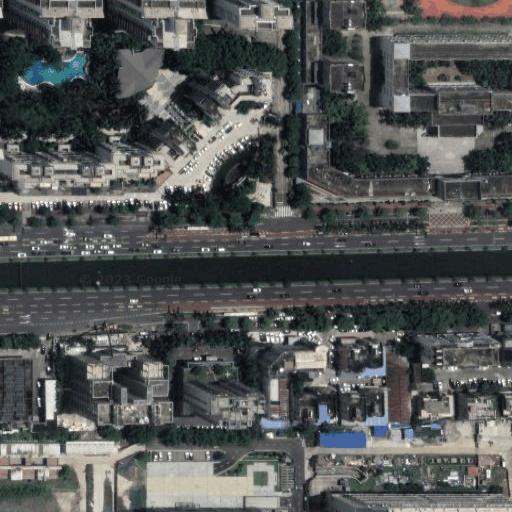building: (307, 114, 431, 198), (379, 40, 512, 110), (140, 458, 284, 510), (71, 355, 155, 415), (189, 59, 262, 112), (100, 40, 160, 98), (8, 149, 110, 178), (327, 496, 499, 512), (384, 344, 413, 429), (0, 358, 35, 422), (179, 380, 237, 414), (427, 342, 500, 367), (268, 350, 329, 378), (161, 341, 231, 363), (305, 2, 323, 85), (430, 109, 485, 136), (296, 390, 337, 426), (85, 462, 110, 512), (110, 140, 157, 165), (339, 343, 384, 369), (331, 1, 364, 29), (268, 377, 289, 420), (330, 65, 364, 91), (445, 179, 483, 201), (318, 432, 367, 449), (482, 174, 512, 200), (65, 441, 117, 456), (420, 396, 457, 417), (465, 395, 496, 420), (365, 389, 388, 418), (346, 393, 366, 423), (45, 379, 59, 421), (303, 87, 321, 114), (98, 352, 130, 365), (340, 368, 384, 377), (498, 393, 512, 415), (266, 419, 289, 430), (413, 362, 423, 382), (366, 417, 388, 426), (372, 426, 388, 438), (46, 454, 58, 466), (35, 470, 48, 481), (12, 469, 23, 481), (23, 469, 35, 480), (339, 338, 360, 344), (47, 470, 59, 480), (429, 423, 443, 431), (403, 428, 413, 439), (502, 324, 512, 334), (0, 454, 9, 465), (0, 469, 9, 479), (25, 454, 33, 465)
